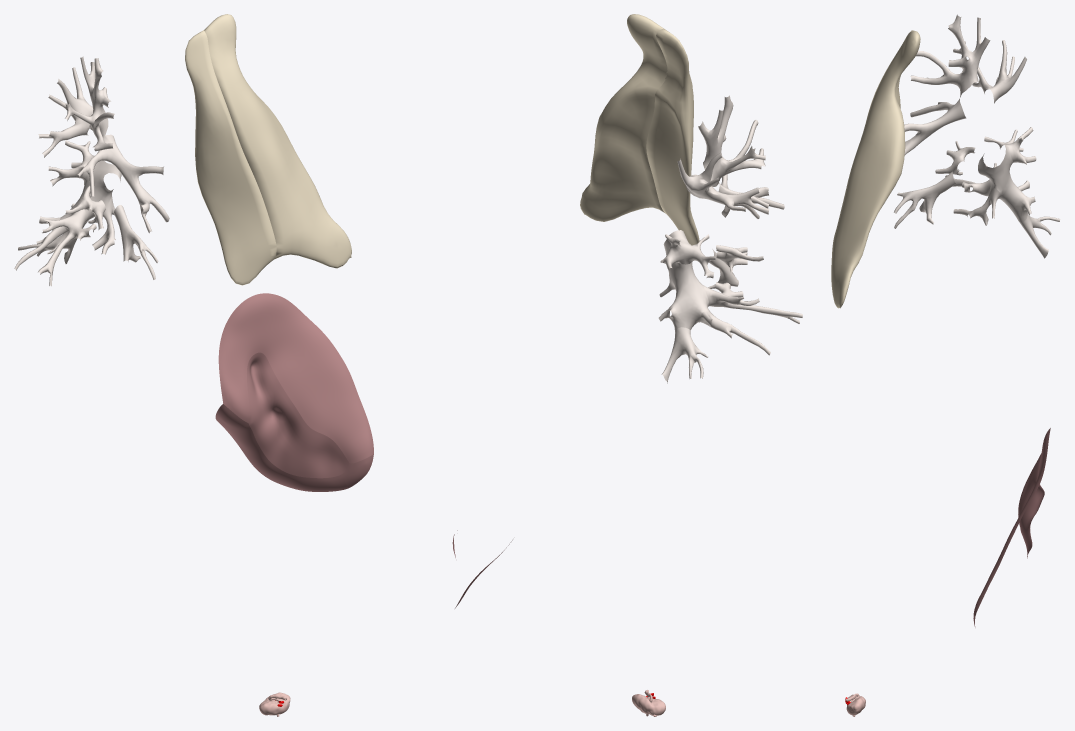
Rendered from female-a-organ-14.glb.
The picture shows the model from 3 angles, left to right: view 1: azimuth 30°, elevation 25°; view 2: azimuth 150°, elevation 25°; view 3: azimuth 270°, elevation 25°; orthographic projection. The views are drawn at different scales.
Parts seen in each view (by area): view 1: VH_F_gastric_surface_of_spleen, VH_F_thymus_lobe_L, VH_F_thymus_lobe_R, VH_F_hilum_of_spleen, VH_F_renal_surface_of_spleen, VH_F_right_anterior_bronchus, VH_F_right_apical_bronchus, VH_F_right_posterior_bronchus, VH_F_right_anterior_basal_bronchus, VH_F_right_inferior_lobar_bronchus, VH_F_right_medial_bronchus, VH_F_right_superior_bronchus (+1 smaller); view 2: VH_F_thymus_lobe_L, VH_F_thymus_lobe_R, VH_F_right_inferior_lobar_bronchus, VH_F_right_apical_bronchus, VH_F_right_posterior_bronchus, VH_F_right_anterior_basal_bronchus, VH_F_right_superior_bronchus, VH_F_right_posterior_basal_bronchus, VH_F_right_anterior_bronchus, VH_F_right_lateral_basal_bronchus, VH_F_right_lateral_bronchus; view 3: VH_F_thymus_lobe_L, VH_F_right_apical_bronchus, VH_F_right_inferior_lobar_bronchus, VH_F_gastric_surface_of_spleen, VH_F_right_anterior_bronchus, VH_F_right_medial_bronchus, VH_F_right_posterior_bronchus, VH_F_hilum_of_spleen, VH_F_right_superior_bronchus, VH_F_right_posterior_basal_bronchus, VH_F_right_medial_basal_bronchus, VH_F_right_lateral_bronchus (+1 smaller).
Boxes of the visible parts, x1,y1,x2,y2 form: VH_F_gastric_surface_of_spleen: [218, 293, 373, 463]; VH_F_thymus_lobe_L: [204, 14, 351, 268]; VH_F_thymus_lobe_R: [185, 30, 276, 285]; VH_F_hilum_of_spleen: [247, 352, 349, 478]; VH_F_renal_surface_of_spleen: [215, 404, 348, 491]; VH_F_right_anterior_bronchus: [77, 134, 169, 233]; VH_F_right_apical_bronchus: [65, 56, 114, 151]; VH_F_right_posterior_bronchus: [38, 67, 93, 157]; VH_F_right_anterior_basal_bronchus: [38, 209, 96, 286]; VH_F_right_inferior_lobar_bronchus: [60, 160, 121, 231]; VH_F_right_medial_bronchus: [114, 205, 158, 279]; VH_F_right_superior_bronchus: [48, 140, 94, 186]; VH_F_thymus_lobe_L: [580, 14, 667, 221]; VH_F_thymus_lobe_R: [646, 28, 699, 245]; VH_F_right_inferior_lobar_bronchus: [658, 230, 709, 332]; VH_F_right_apical_bronchus: [698, 95, 765, 186]; VH_F_right_posterior_bronchus: [677, 152, 769, 214]; VH_F_right_anterior_basal_bronchus: [703, 282, 802, 323]; VH_F_right_superior_bronchus: [660, 234, 716, 278]; VH_F_right_posterior_basal_bronchus: [661, 327, 707, 383]; VH_F_right_anterior_bronchus: [718, 174, 784, 218]; VH_F_right_lateral_basal_bronchus: [700, 311, 770, 355]; VH_F_right_lateral_bronchus: [716, 245, 763, 272]; VH_F_thymus_lobe_L: [831, 30, 920, 308]; VH_F_right_apical_bronchus: [910, 14, 990, 97]; VH_F_right_inferior_lobar_bronchus: [978, 144, 1035, 222]; VH_F_gastric_surface_of_spleen: [973, 428, 1050, 616]; VH_F_right_anterior_bronchus: [904, 98, 966, 155]; VH_F_right_medial_bronchus: [894, 171, 955, 228]; VH_F_right_posterior_bronchus: [972, 40, 1026, 103]; VH_F_hilum_of_spleen: [1019, 478, 1044, 558]; VH_F_right_superior_bronchus: [984, 127, 1036, 164]; VH_F_right_posterior_basal_bronchus: [1019, 213, 1060, 258]; VH_F_right_medial_basal_bronchus: [953, 188, 999, 225]; VH_F_right_lateral_bronchus: [935, 141, 975, 175].
Bounding box in the file's own units: 0.1924 × 0.3575 × 0.1105.
